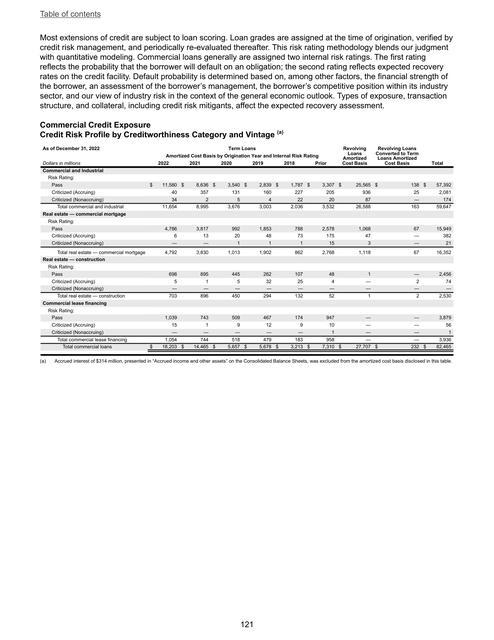box: (39, 145, 458, 366)
